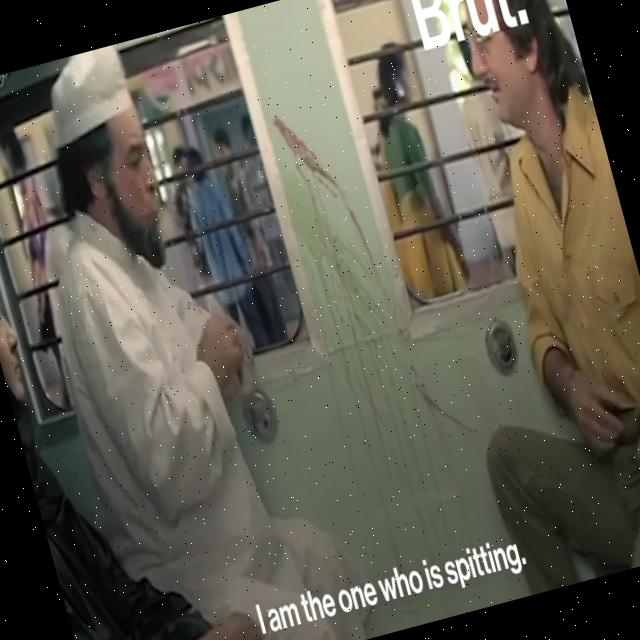spit: (245, 74, 461, 477)
